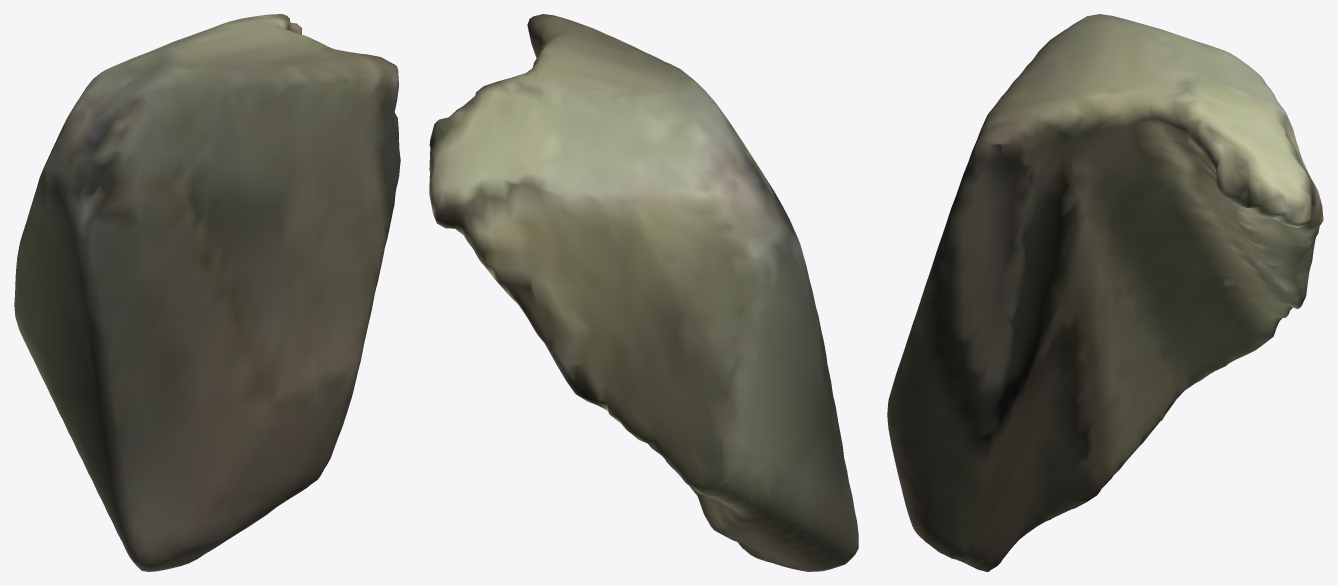
The picture shows the model from 3 angles, left to right: view 1: azimuth 30°, elevation 25°; view 2: azimuth 150°, elevation 25°; view 3: azimuth 270°, elevation 25°; orthographic projection. The views are drawn at different scales.
Visible parts, largest first — view 1: Multiview fitted textile rest surface; view 2: Multiview fitted textile rest surface; view 3: Multiview fitted textile rest surface.
Boxes of the visible parts, x1,y1,x2,y2 form: Multiview fitted textile rest surface: (14,14,400,571); Multiview fitted textile rest surface: (429,14,858,571); Multiview fitted textile rest surface: (887,14,1323,571).
Size of the model in its own units: 0.1312 by 0.2016 by 0.1392.
